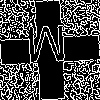M: (25, 25, 69, 73)
